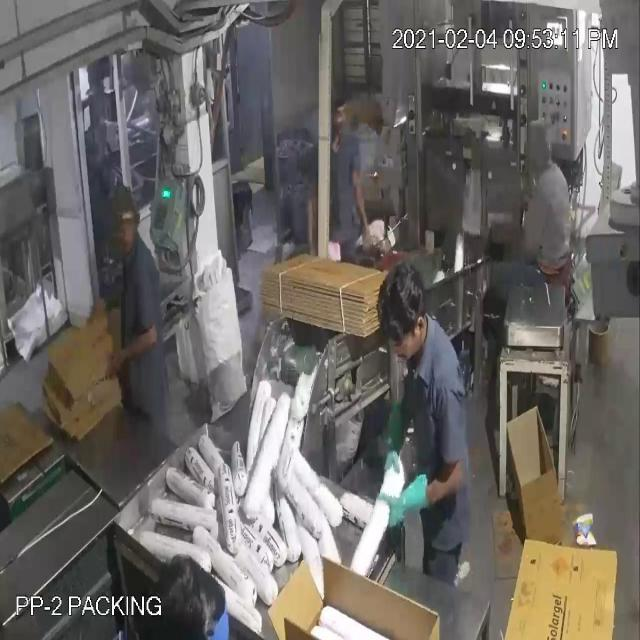No_Gloves: (27, 62, 410, 502)
